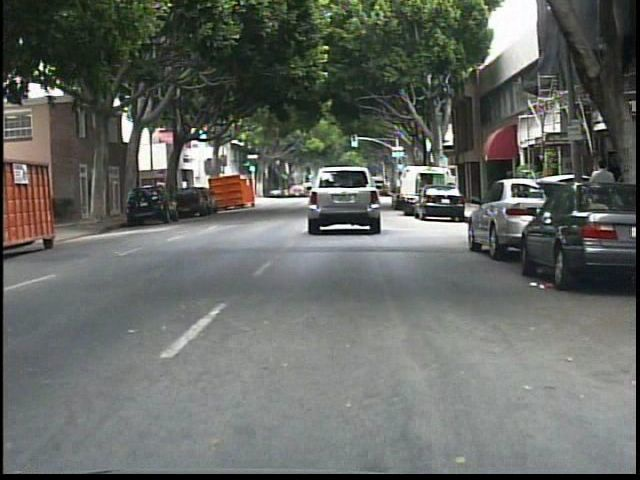person: (584, 154, 619, 243)
